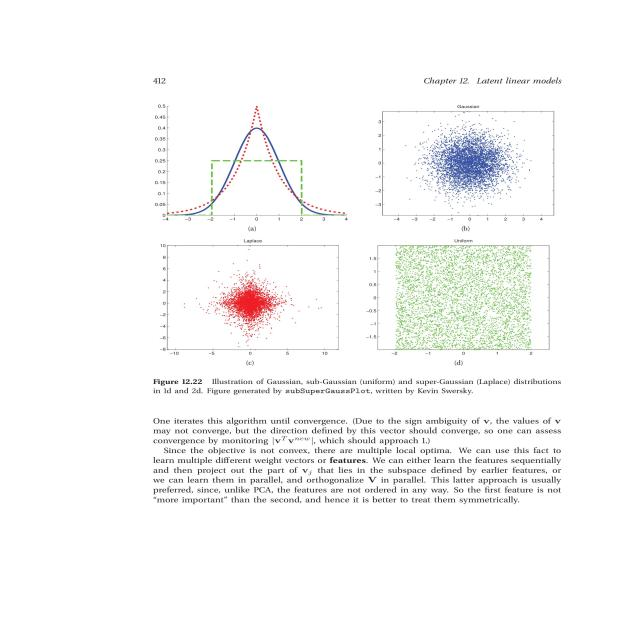diagram: (102, 39, 578, 400)
